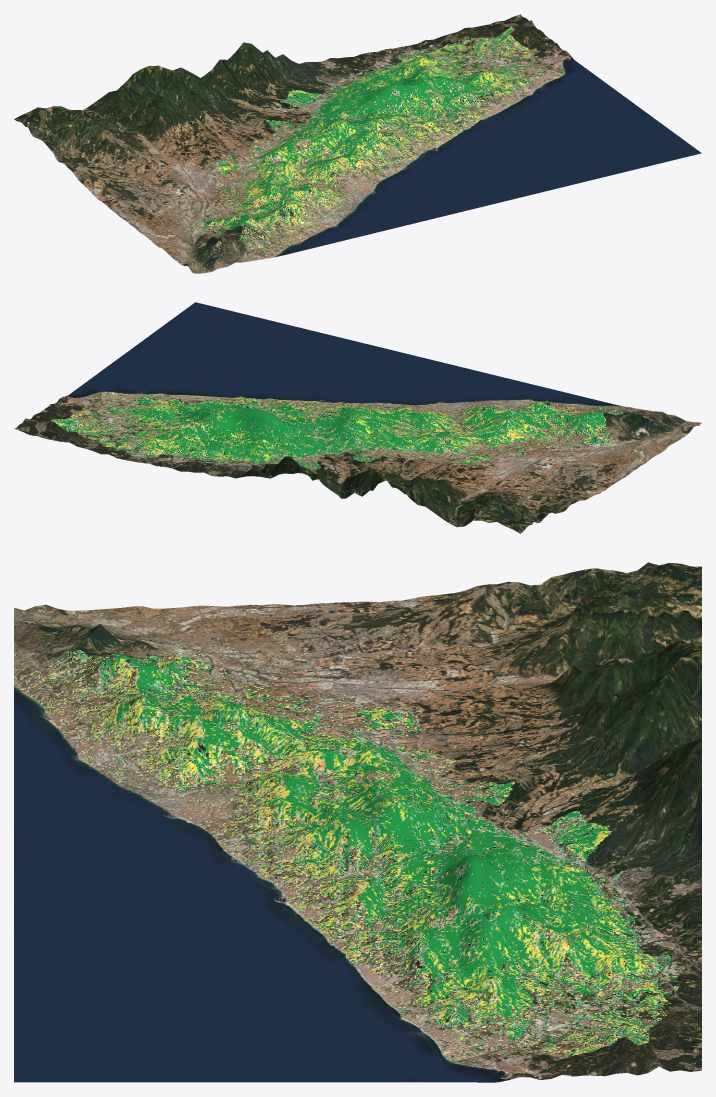
File: sentinelDecaScale_3.obj
3 renders of one model, top to bottom at view 1: azimuth 30°, elevation 25°; view 2: azimuth 150°, elevation 25°; view 3: azimuth 270°, elevation 25°, orthographic. The views are drawn at different scales.
Visible parts, largest first — view 1: maresme_MetElipResi_2; view 2: maresme_MetElipResi_2; view 3: maresme_MetElipResi_2.
Boxes of the visible parts, box(x1,y1,x2,y2) form: maresme_MetElipResi_2: box(14, 14, 701, 273); maresme_MetElipResi_2: box(14, 302, 701, 533); maresme_MetElipResi_2: box(14, 562, 701, 1082).
Bounding box in the file's own units: 63.72 × 5.57 × 39.53.
1 material, 1 textured.
